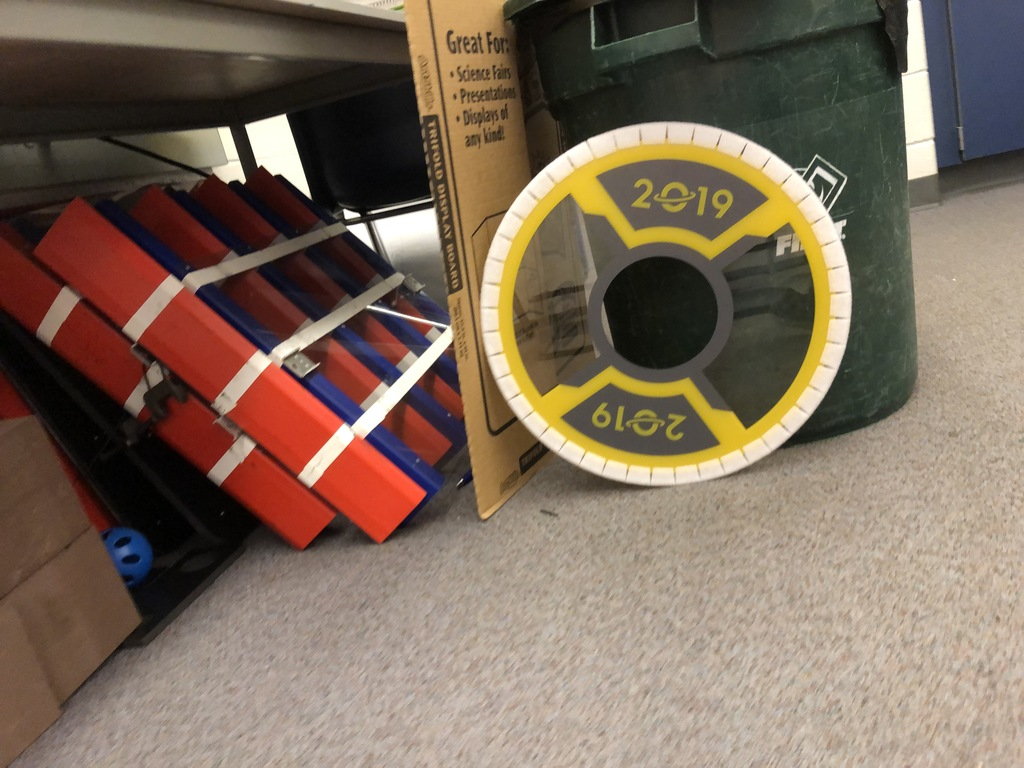hatch_panel: (485, 109, 860, 499)
